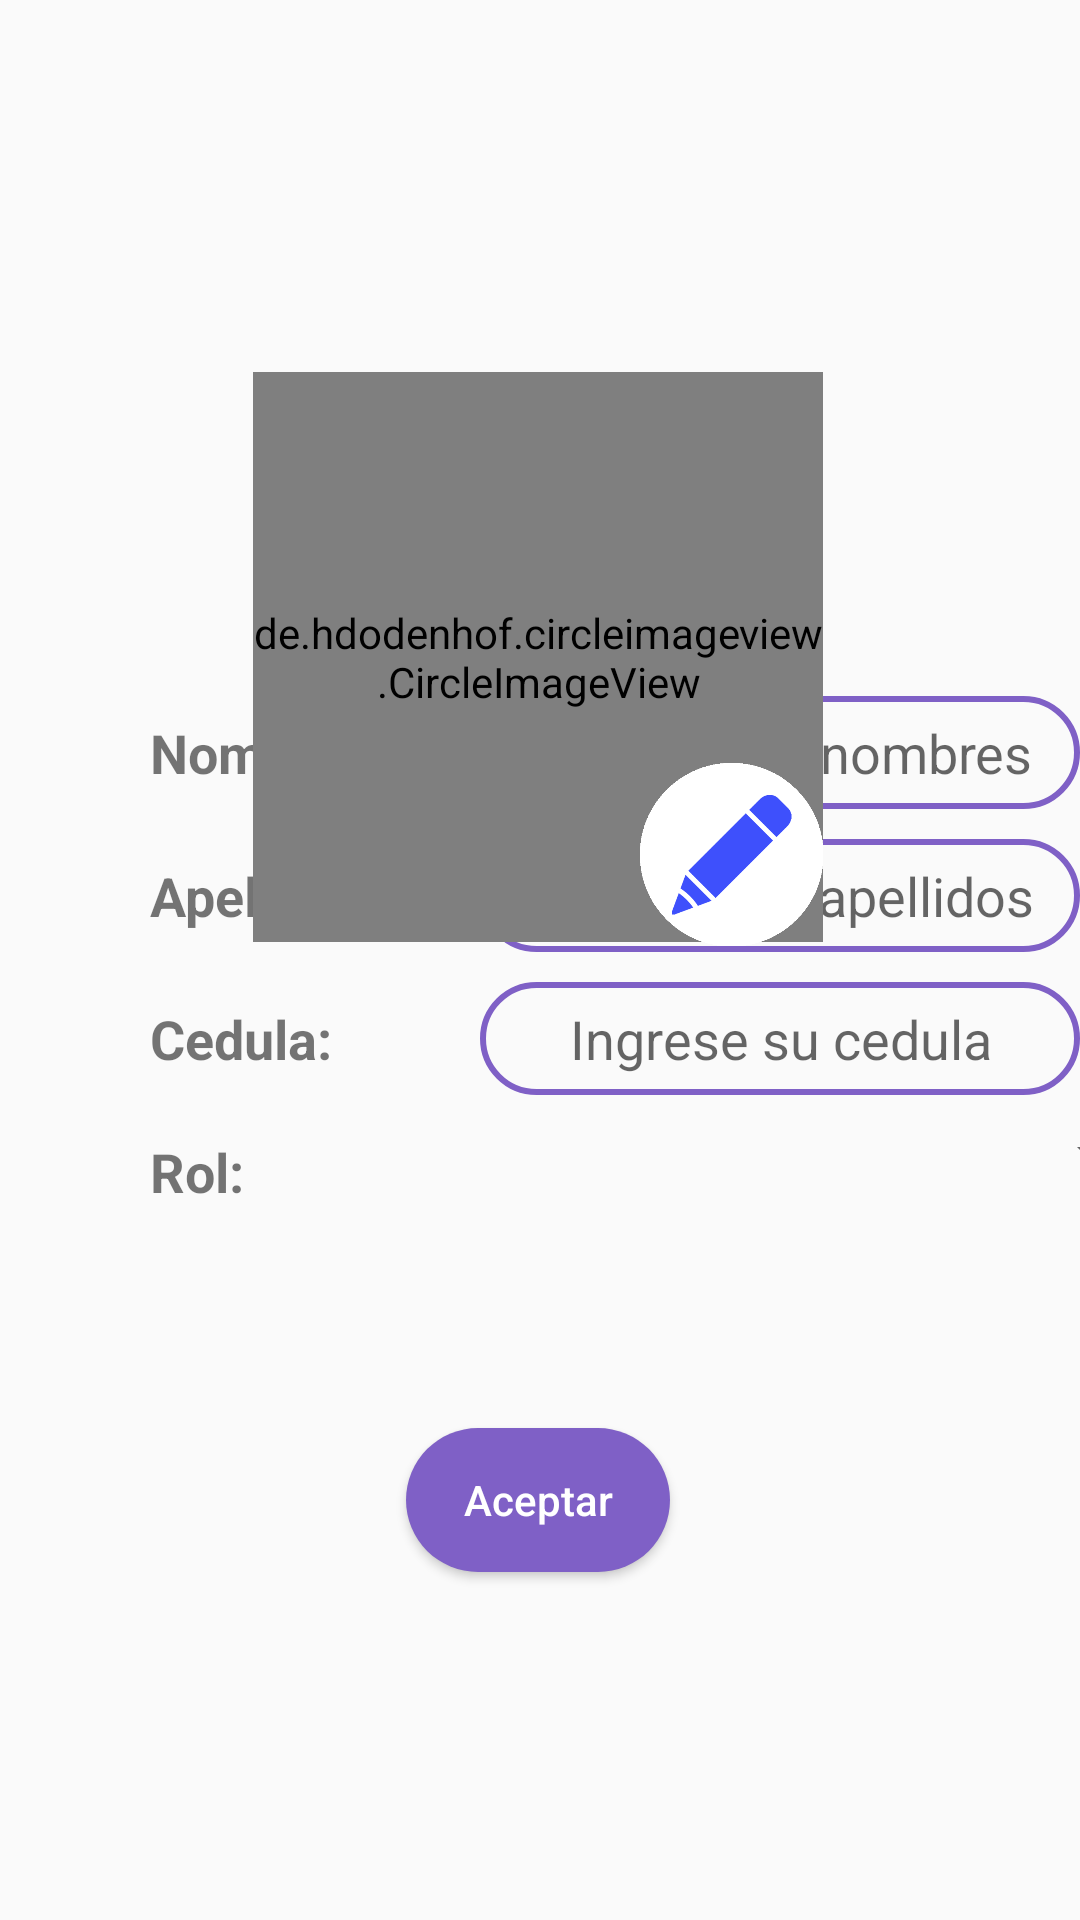

Icons on this 1080 x 1920 Android screen, each with the point to tap as (x=x, y=y):
editar: (x=731, y=854)
